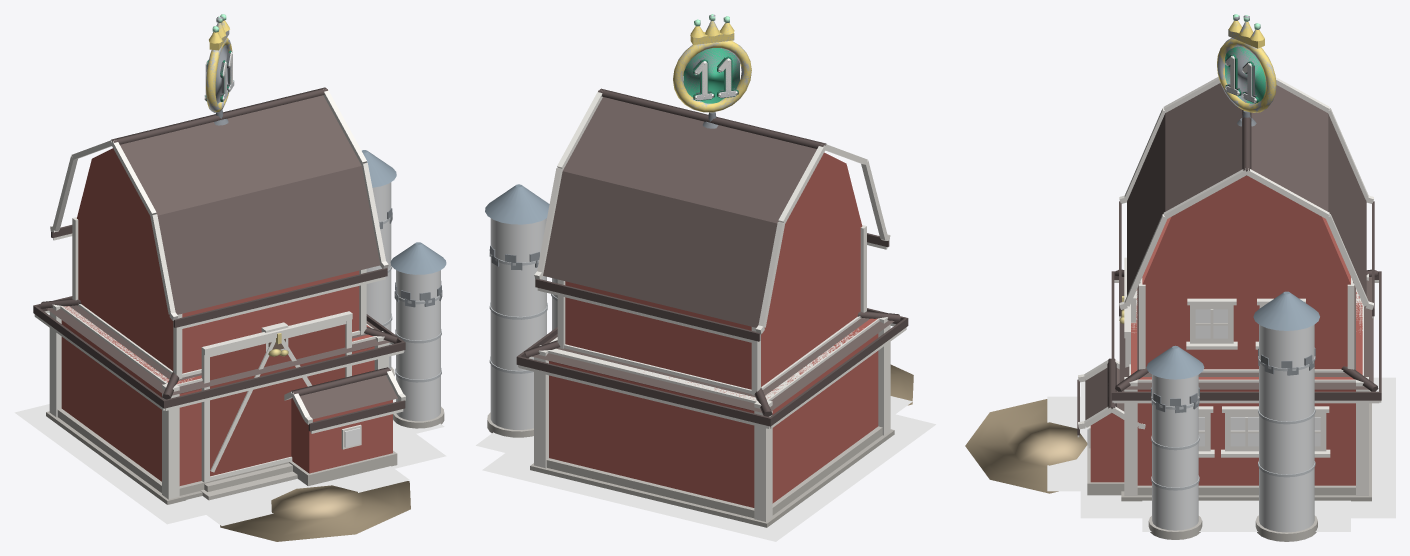
The model's file is barn_11.glb.
3 renders of one model, left to right at view 1: azimuth 30°, elevation 25°; view 2: azimuth 150°, elevation 25°; view 3: azimuth 270°, elevation 25°, orthographic. The views are drawn at different scales.
Parts seen in each view (by area): view 1: body2, barn_11, spin_60_0, body; view 2: body2, barn_11, spin_60_0, body; view 3: body2, barn_11, spin_60_0, body.
Part boxes in pixels (box(x1,y1,x2,y2)): body2: box(33, 87, 446, 541); barn_11: box(14, 399, 446, 525); spin_60_0: box(204, 14, 234, 112); body: box(204, 16, 234, 112); body2: box(485, 88, 913, 527); barn_11: box(476, 396, 935, 541); spin_60_0: box(673, 14, 751, 112); body: box(673, 14, 751, 110); body2: box(965, 76, 1381, 541); barn_11: box(1047, 377, 1395, 531); spin_60_0: box(1217, 14, 1276, 112); body: box(1217, 15, 1275, 112).
Size of the model in its own units: 3.42 by 4.22 by 3.8.
